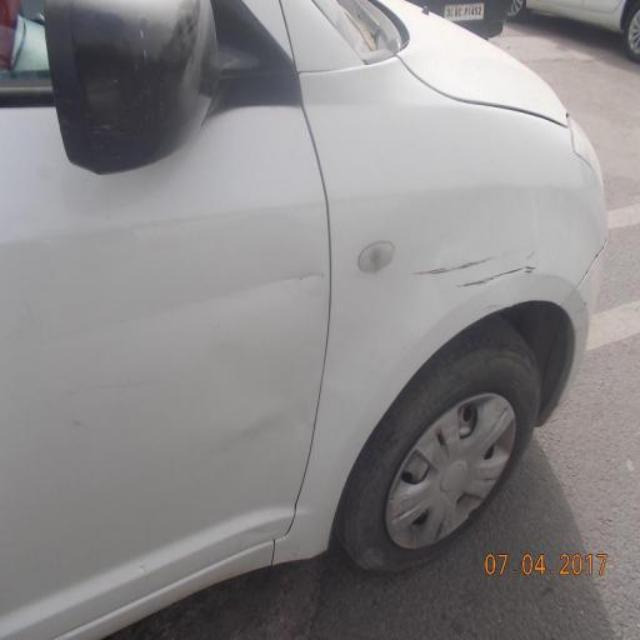dent: (215, 346, 316, 469)
scratch: (94, 262, 327, 335), (458, 249, 542, 291), (62, 377, 164, 403), (417, 248, 497, 281), (67, 415, 90, 431)
